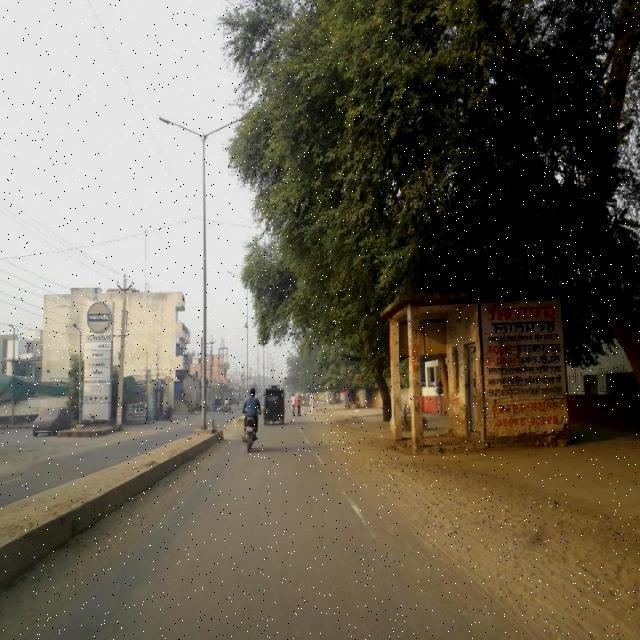D44: (346, 485, 385, 547), (303, 431, 329, 468)
